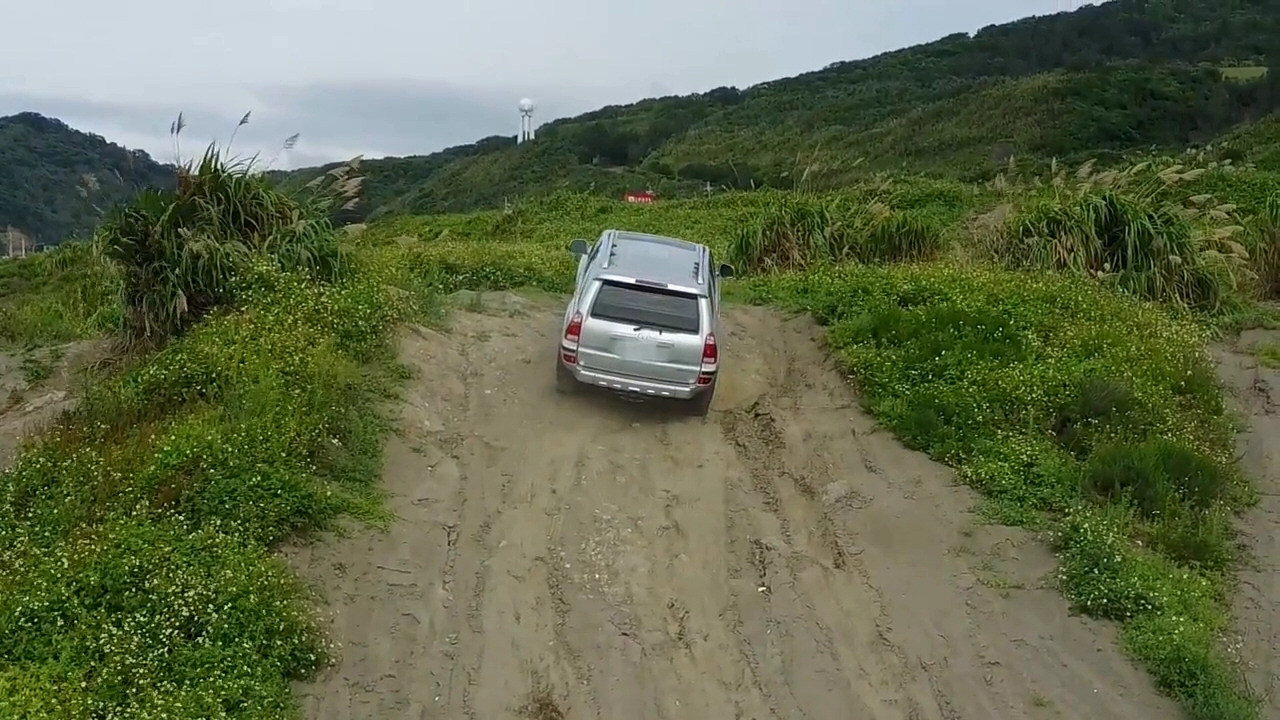araba: (557, 228, 735, 422)
